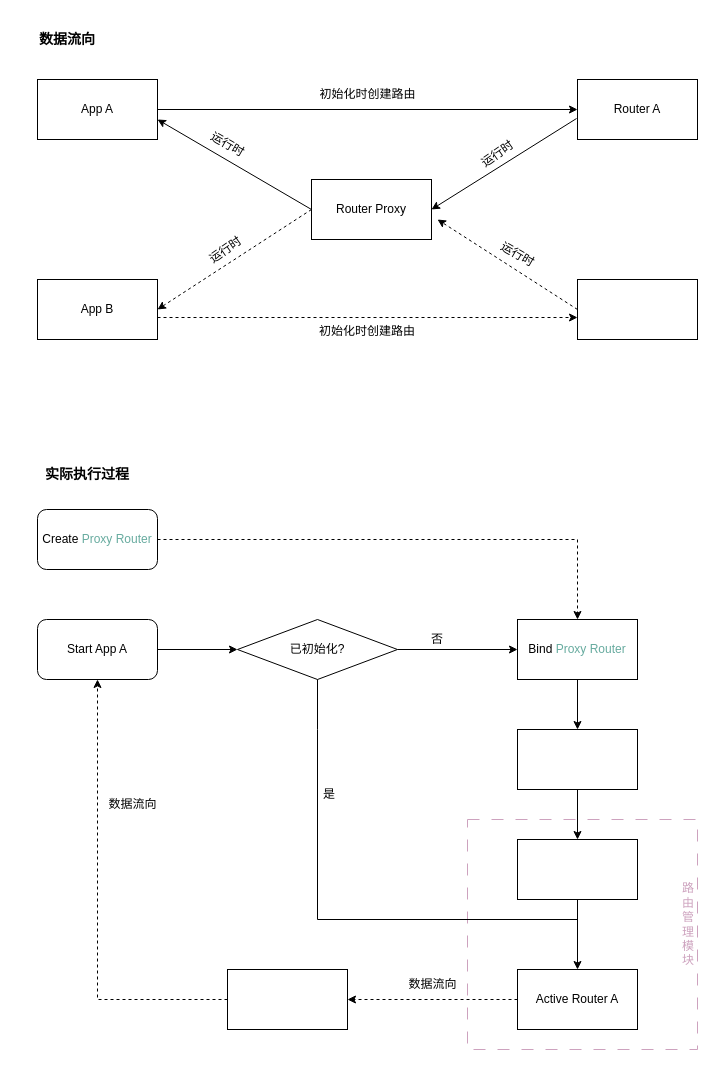
This 715x1067 diagram has some shape labels left out. Here are the shapes that lost their labels. From the top down, the centre of each, then its label:
At (637,309): "Router B".
At (577,759): "Create Router A".
At (577,869): "Register Router A".
At (287,999): "Proxy Router".
